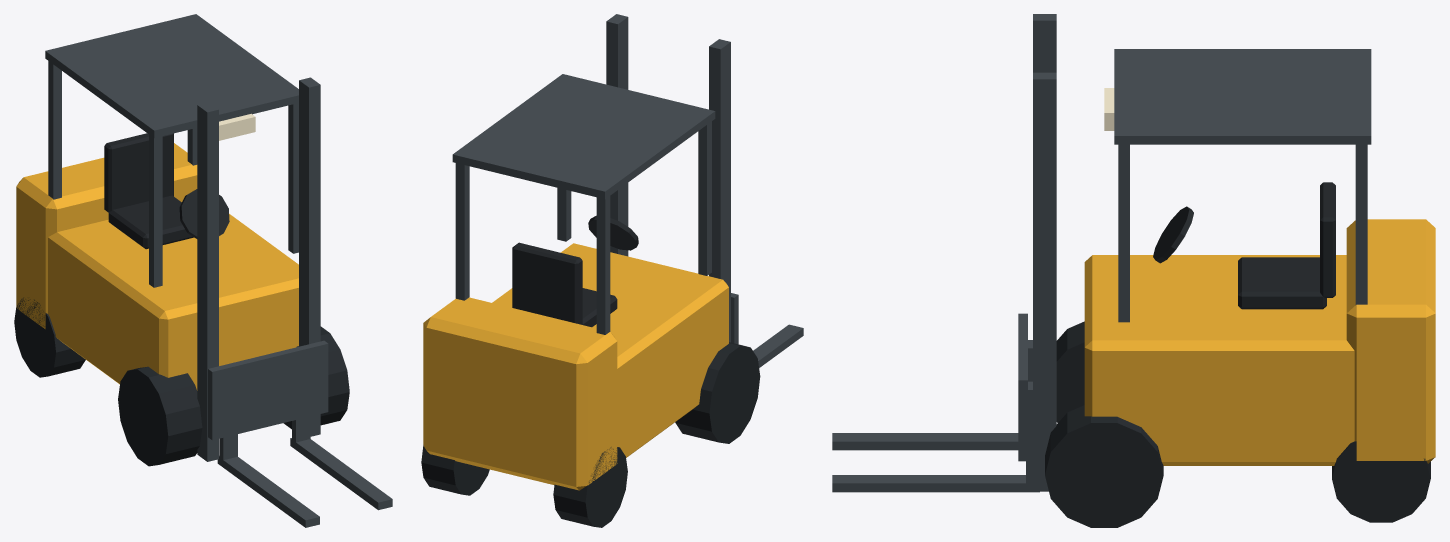
File: Forklift.fbx
The picture shows the model from 3 angles, left to right: view 1: azimuth 30°, elevation 25°; view 2: azimuth 150°, elevation 25°; view 3: azimuth 270°, elevation 25°; orthographic projection. The views are drawn at different scales.
Visible parts, largest first — view 1: Forklift; view 2: Forklift; view 3: Forklift.
Boxes of the visible parts, <box> form: Forklift: <box>14,14,392,527</box>; Forklift: <box>421,14,803,527</box>; Forklift: <box>832,14,1435,527</box>.
Size of the model in its own units: 1.25 by 2.39 by 3.05.
